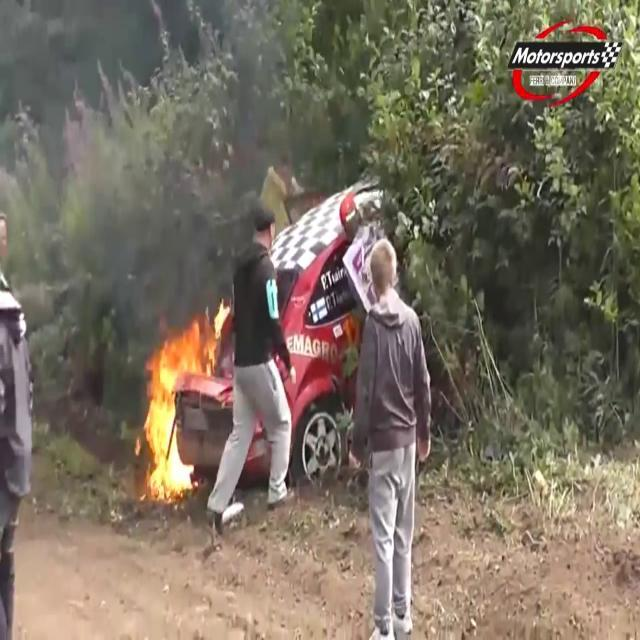Fire: (137, 294, 230, 502)
Smoke: (68, 128, 248, 350)
